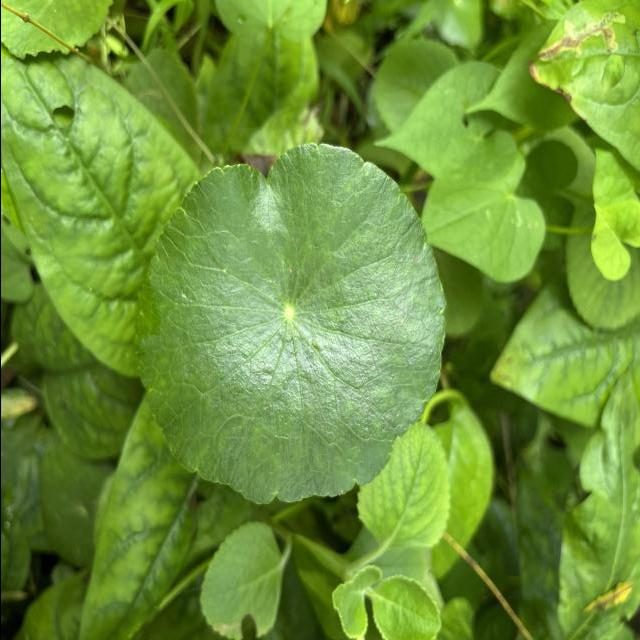Bacopa monnieri: (128, 140, 450, 508)
